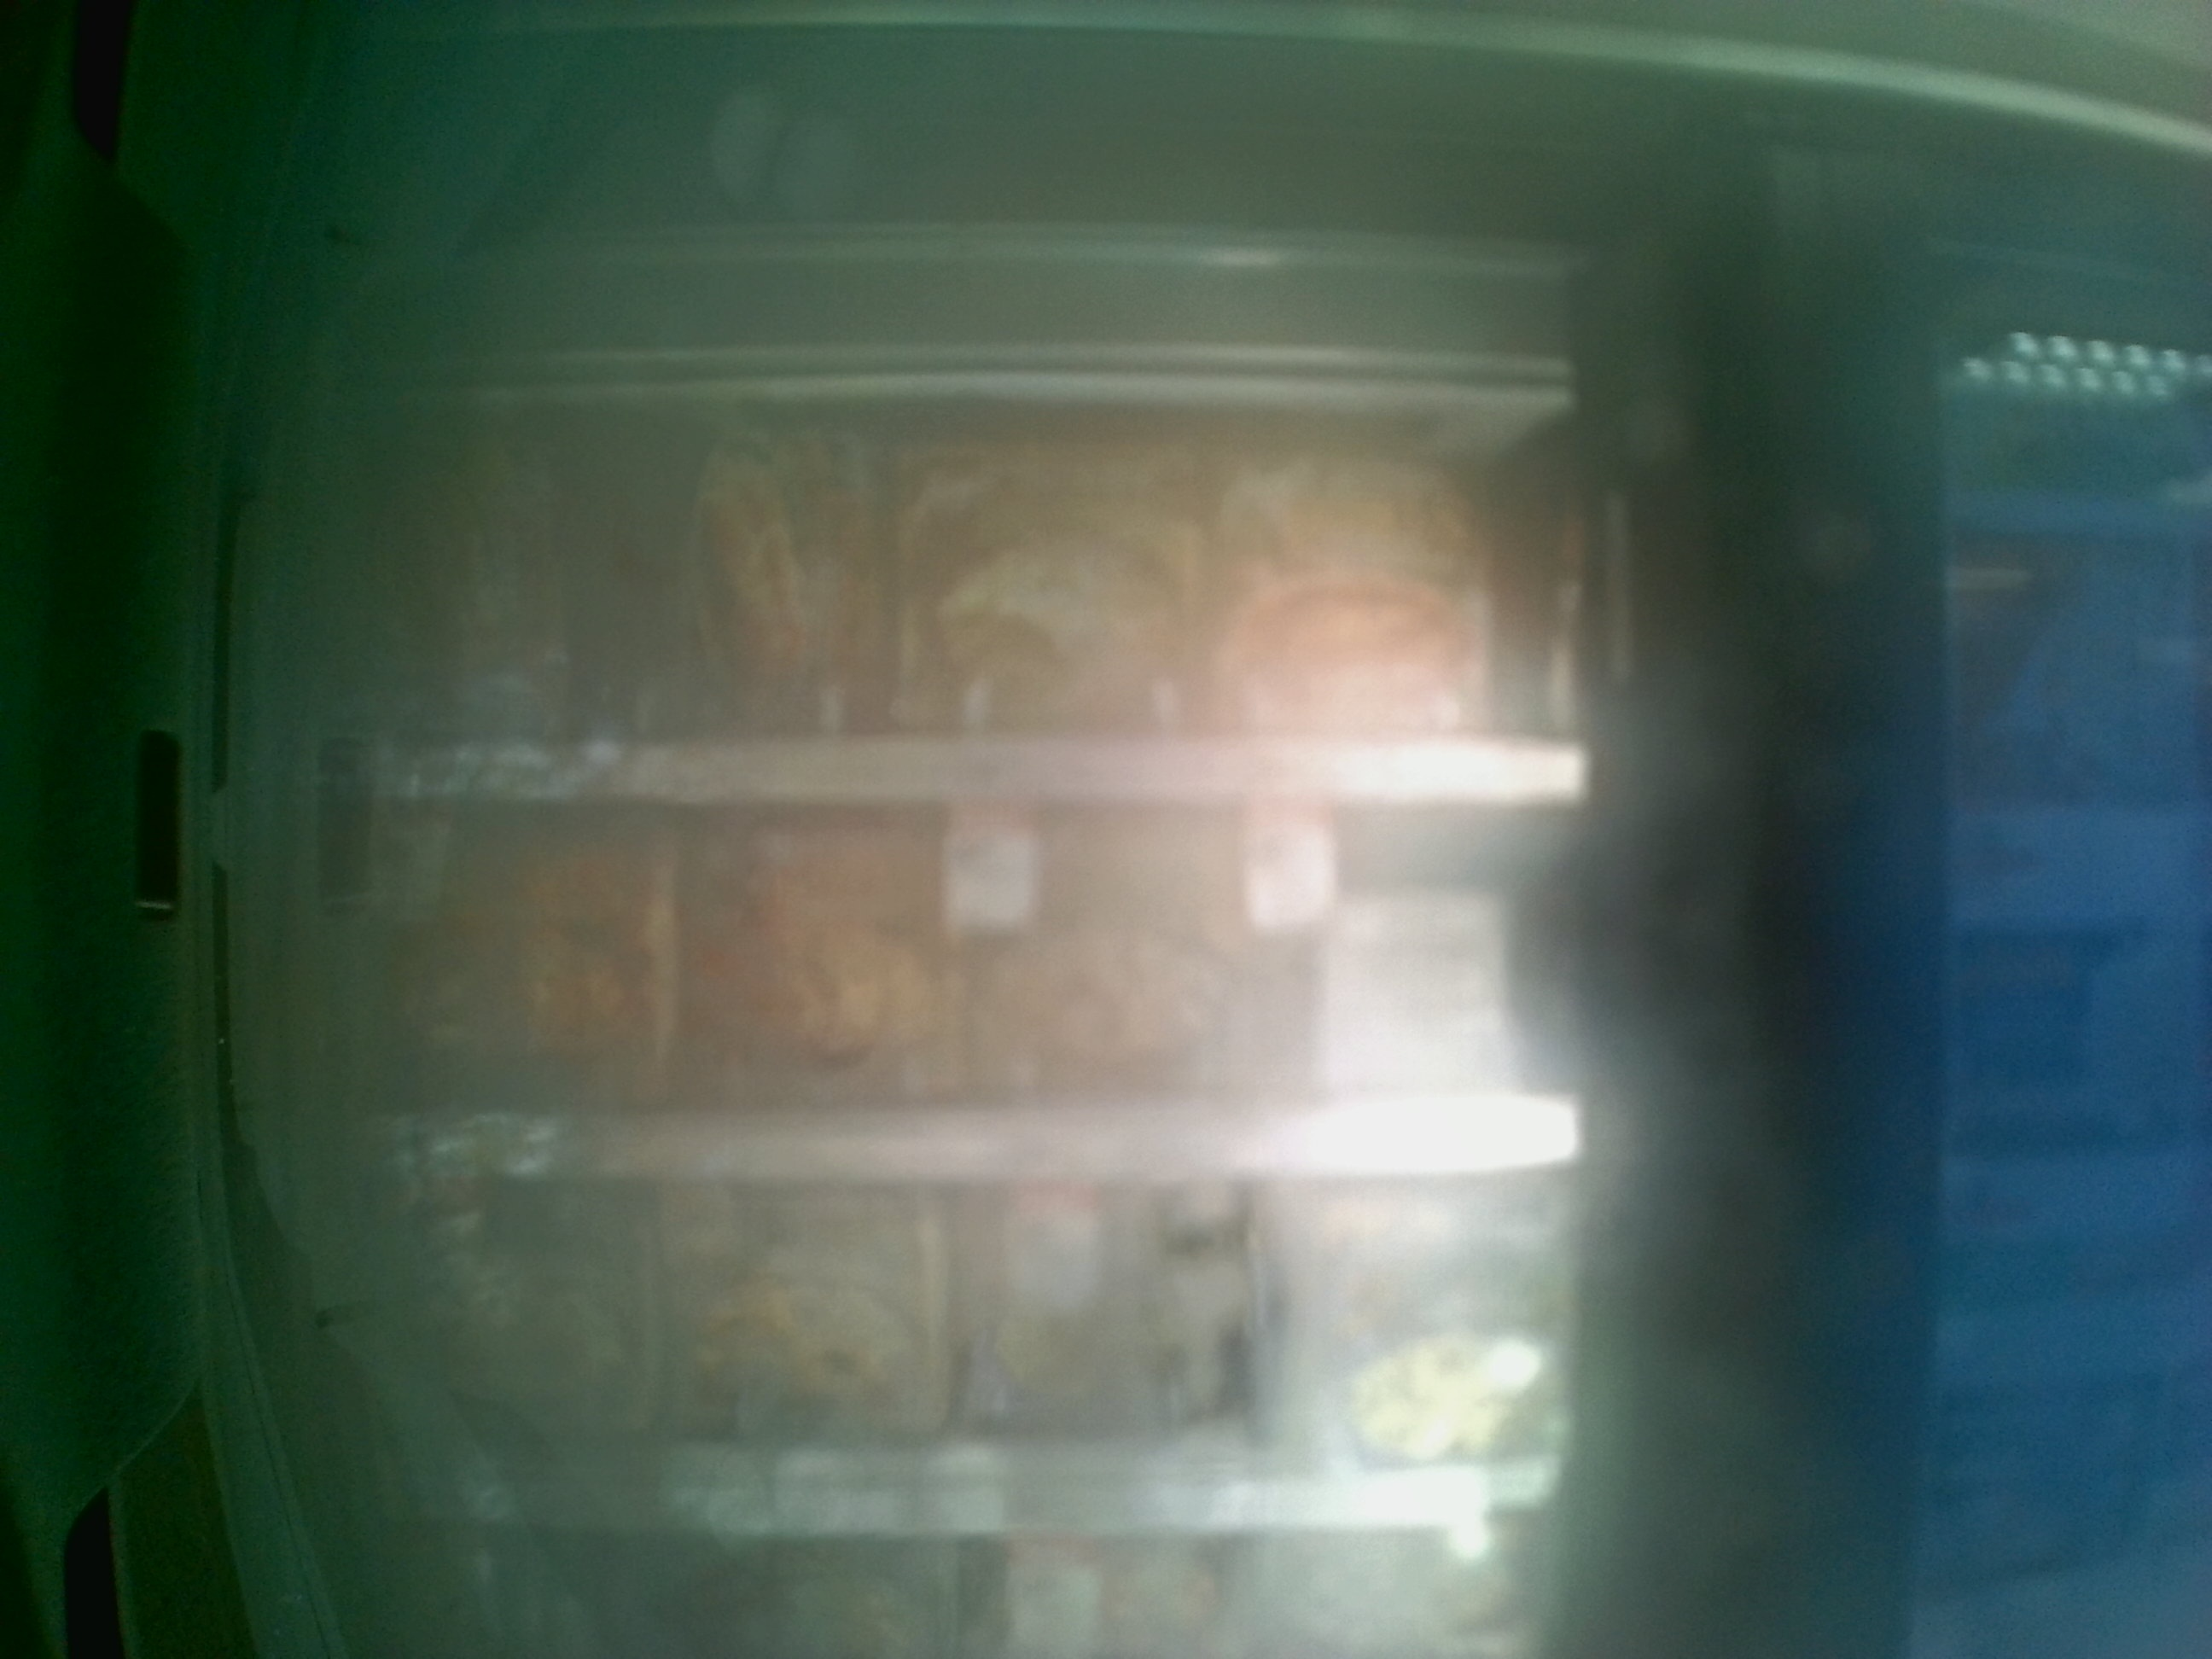frozen-food-shelf: (341, 385, 1609, 809), (341, 814, 1590, 1190)
